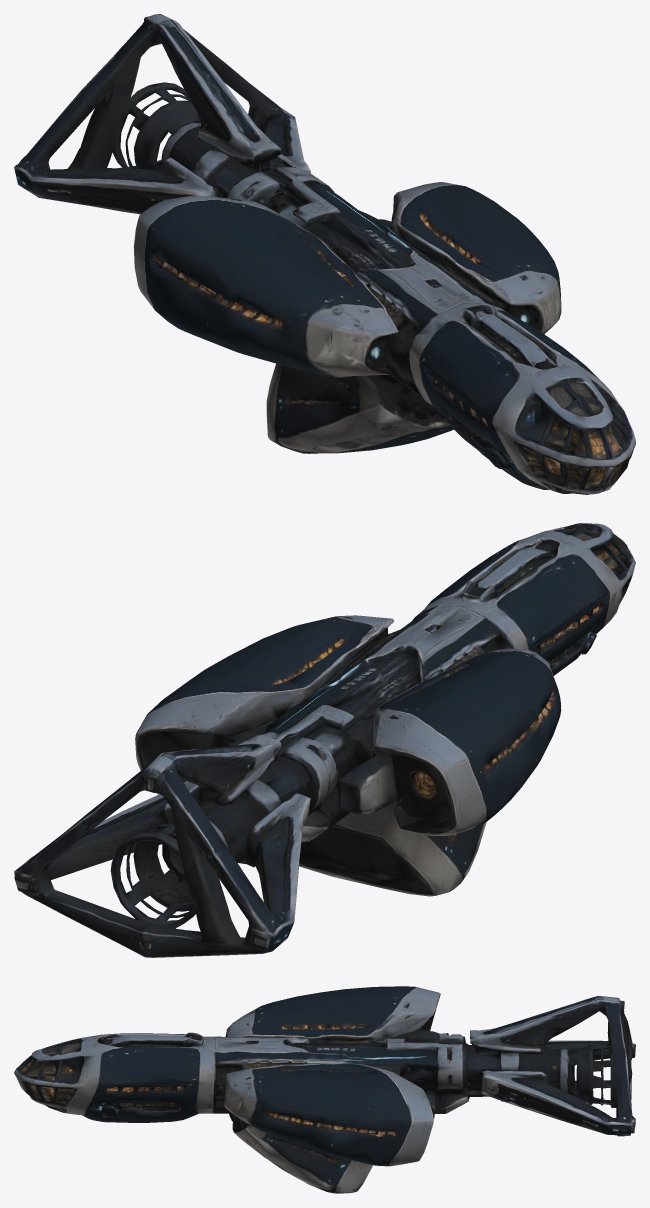
Rendered from lantern.glb.
3 views of the same model, one above another, from view 1: azimuth 30°, elevation 25°; view 2: azimuth 150°, elevation 25°; view 3: azimuth 270°, elevation 25° (orthographic). The views are drawn at different scales.
Parts seen in each view (by area): view 1: lantern; view 2: lantern; view 3: lantern.
Boxes of the visible parts, left/top/right/bottom form: lantern: left=14, top=14, right=635, bottom=494; lantern: left=14, top=523, right=635, bottom=957; lantern: left=14, top=986, right=635, bottom=1193.
Size of the model in its own units: 0.4157 by 0.3107 by 1.
Materials: 1 (1 with a texture image).
